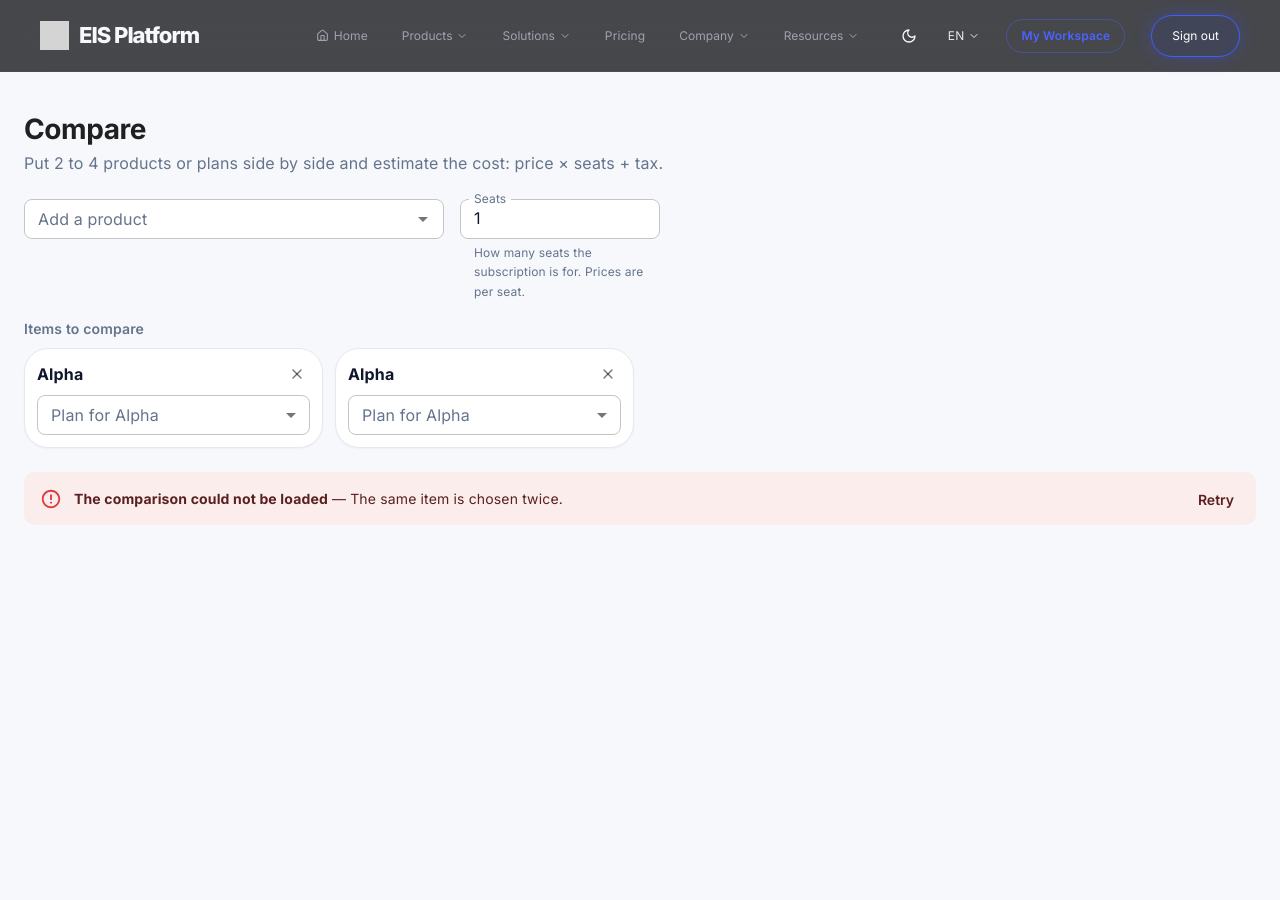
Test: Compare page (C102) › shows the API validation message with Retry, and retries
Expected: the text "The same item is chosen twice." is shown, [328,490,563,506]
Expected: the text "The comparison could not be loaded" is shown, [74,490,328,506]
Click the button "Retry". click: click(1216, 501)
box: [1184,482,1248,519]
(page scrolled)
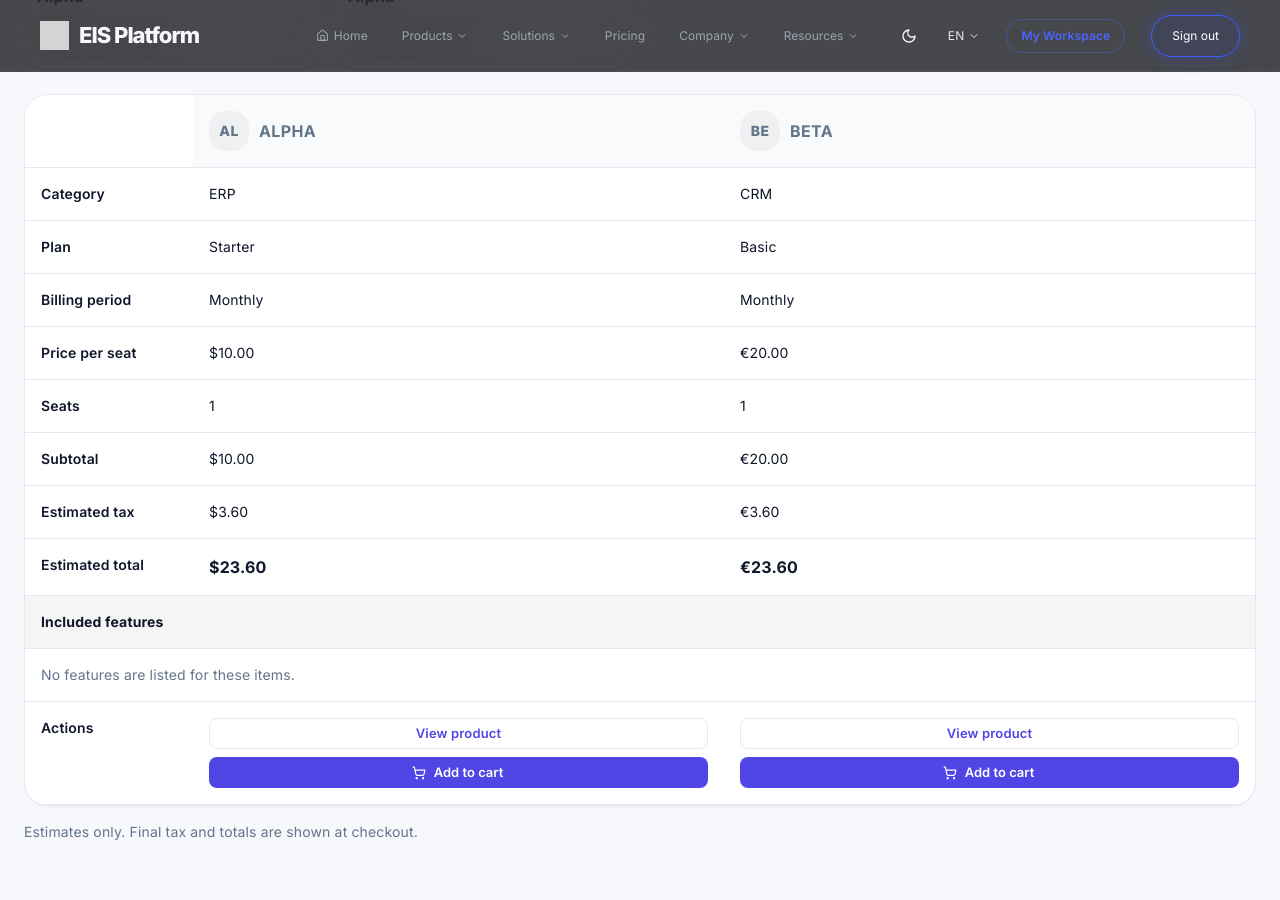
Now the table is shown
